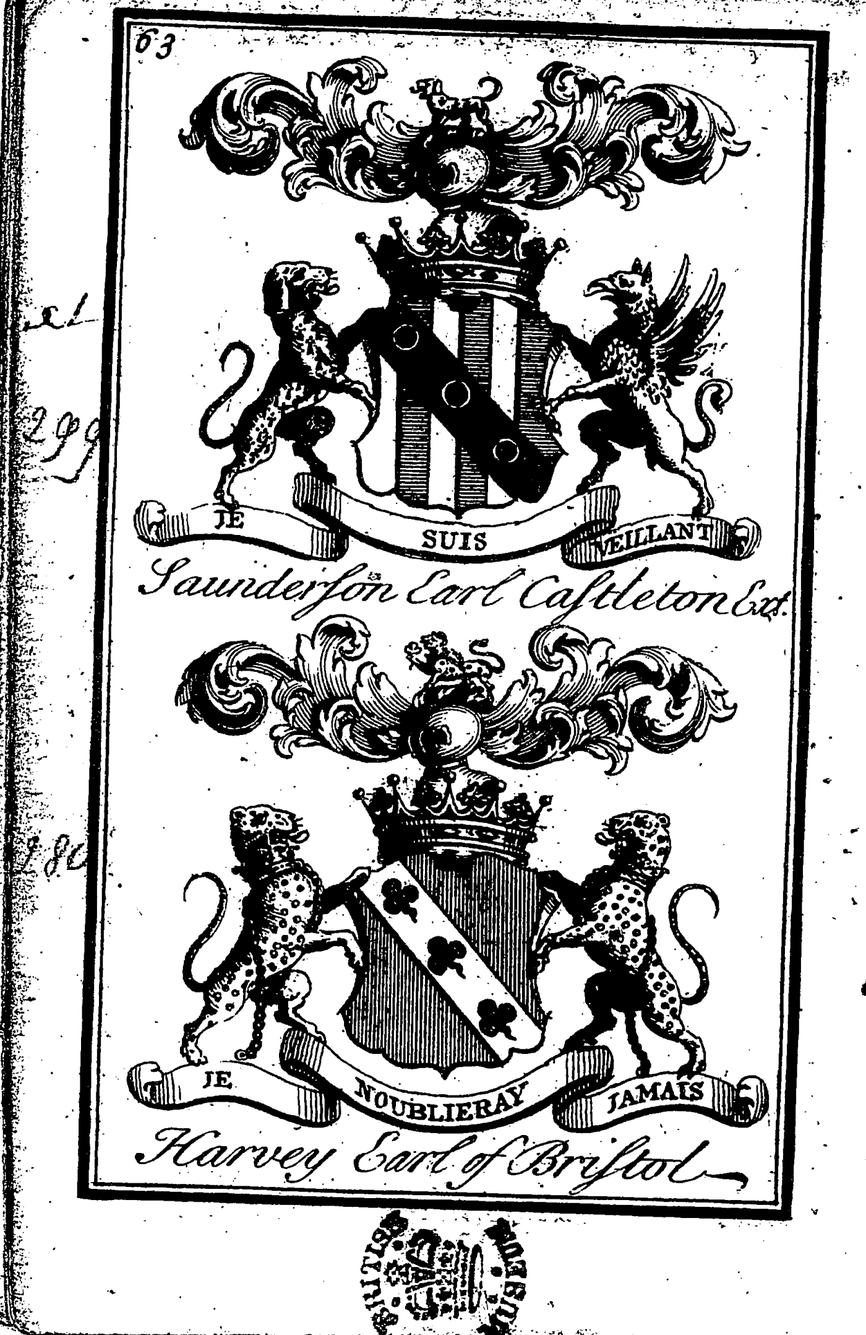coat_of_arms: (154, 32, 787, 620), (148, 622, 757, 1199)
